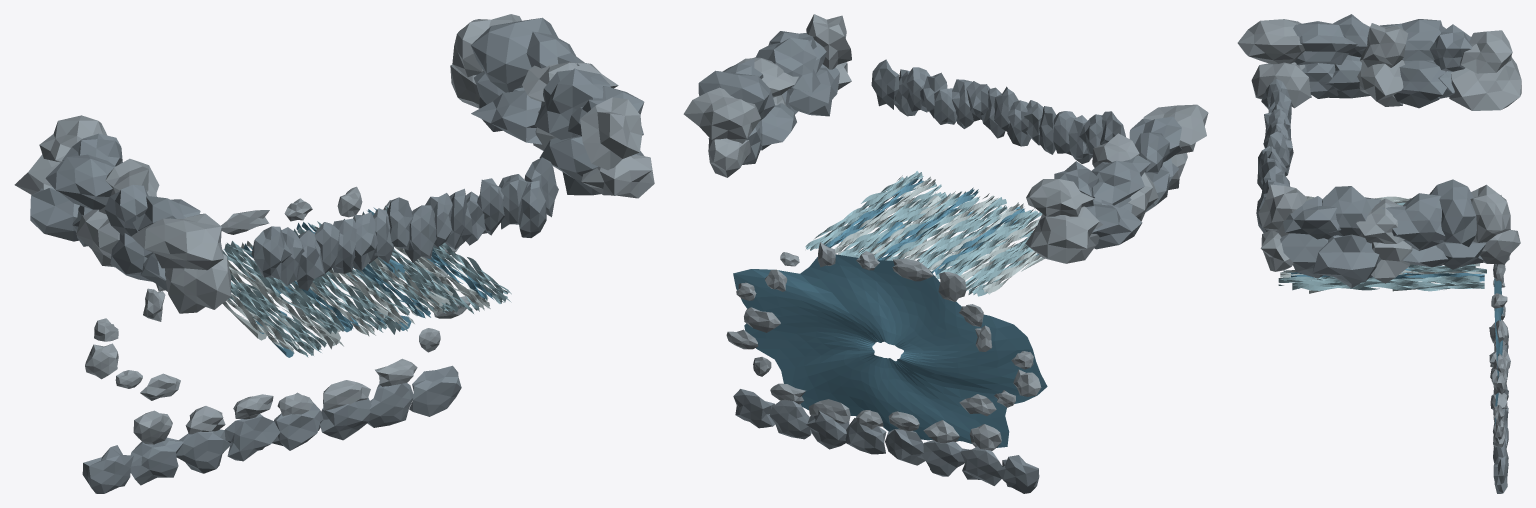
The model's file is floor2_frozen_waterfall_v05.glb.
3 renders of one model, left to right at view 1: azimuth 30°, elevation 25°; view 2: azimuth 150°, elevation 25°; view 3: azimuth 270°, elevation 25°, orthographic. The views are drawn at different scales.
Visible parts, largest first — view 1: angular_cliff_-1_6_1, angular_cliff_1_1_1, angular_cliff_1_6_1, angular_cliff_1_4_1, angular_cliff_-1_6_0, angular_cliff_-1_2_1, angular_cliff_1_2_0, angular_cliff_1_6_0, angular_cliff_1_5_0, angular_cliff_-1_1_0, foreground_shore_07, foreground_shore_01 (+56 smaller); view 2: irregular_frozen_plunge_basin, angular_cliff_-1_0_0, angular_cliff_1_0_1, angular_cliff_-1_2_1, angular_cliff_1_4_1, angular_cliff_-1_0_1, angular_cliff_1_1_1, angular_cliff_-1_1_0, angular_cliff_1_6_1, angular_cliff_1_5_0, angular_cliff_-1_6_1, angular_cliff_1_0_0 (+54 smaller); view 3: angular_cliff_-1_0_0, angular_cliff_1_4_0, angular_cliff_1_2_1, angular_cliff_-1_6_1, angular_cliff_1_1_1, angular_cliff_-1_5_1, angular_cliff_-1_2_0, angular_cliff_-1_0_1, angular_cliff_1_0_1, angular_cliff_-1_6_0, angular_cliff_1_4_1, angular_cliff_1_5_1 (+24 smaller).
Boxes of the visible parts, left/top/right/bottom form: angular_cliff_-1_6_1: left=131, top=213, right=223, bottom=270; angular_cliff_1_1_1: left=471, top=17, right=558, bottom=92; angular_cliff_1_6_1: left=580, top=97, right=641, bottom=170; angular_cliff_1_4_1: left=534, top=68, right=610, bottom=139; angular_cliff_-1_6_0: left=165, top=253, right=231, bottom=313; angular_cliff_-1_2_1: left=45, top=154, right=115, bottom=209; angular_cliff_1_2_0: left=471, top=90, right=541, bottom=144; angular_cliff_1_6_0: left=581, top=155, right=654, bottom=198; angular_cliff_1_5_0: left=539, top=136, right=644, bottom=195; angular_cliff_-1_1_0: left=30, top=187, right=79, bottom=241; foreground_shore_07: left=409, top=365, right=461, bottom=416; foreground_shore_01: left=130, top=437, right=183, bottom=485; irregular_frozen_plunge_basin: left=733, top=254, right=1047, bottom=447; angular_cliff_-1_0_0: left=1025, top=206, right=1102, bottom=263; angular_cliff_1_0_1: left=683, top=87, right=760, bottom=143; angular_cliff_-1_2_1: left=1091, top=155, right=1150, bottom=205; angular_cliff_1_4_1: left=755, top=38, right=820, bottom=92; angular_cliff_-1_0_1: left=1026, top=179, right=1094, bottom=216; angular_cliff_1_1_1: left=698, top=70, right=775, bottom=121; angular_cliff_-1_1_0: left=1086, top=204, right=1142, bottom=249; angular_cliff_1_6_1: left=806, top=14, right=851, bottom=69; angular_cliff_1_5_0: left=788, top=64, right=839, bottom=116; angular_cliff_-1_6_1: left=1143, top=104, right=1208, bottom=154; angular_cliff_1_0_0: left=708, top=138, right=750, bottom=177; angular_cliff_-1_0_0: left=1449, top=57, right=1521, bottom=110; angular_cliff_1_4_0: left=1312, top=234, right=1380, bottom=288; angular_cliff_1_2_1: left=1382, top=193, right=1445, bottom=250; angular_cliff_-1_6_1: left=1237, top=19, right=1304, bottom=64; angular_cliff_1_1_1: left=1429, top=179, right=1476, bottom=246; angular_cliff_-1_5_1: left=1293, top=21, right=1357, bottom=65; angular_cliff_-1_2_0: left=1394, top=60, right=1448, bottom=108; angular_cliff_-1_0_1: left=1460, top=30, right=1512, bottom=73; angular_cliff_1_0_1: left=1470, top=184, right=1510, bottom=242; angular_cliff_-1_6_0: left=1251, top=62, right=1311, bottom=108; angular_cliff_1_4_1: left=1322, top=186, right=1380, bottom=236; angular_cliff_1_5_1: left=1283, top=196, right=1340, bottom=239.
Size of the model in its own units: 30.14 by 21.61 by 16.85.
